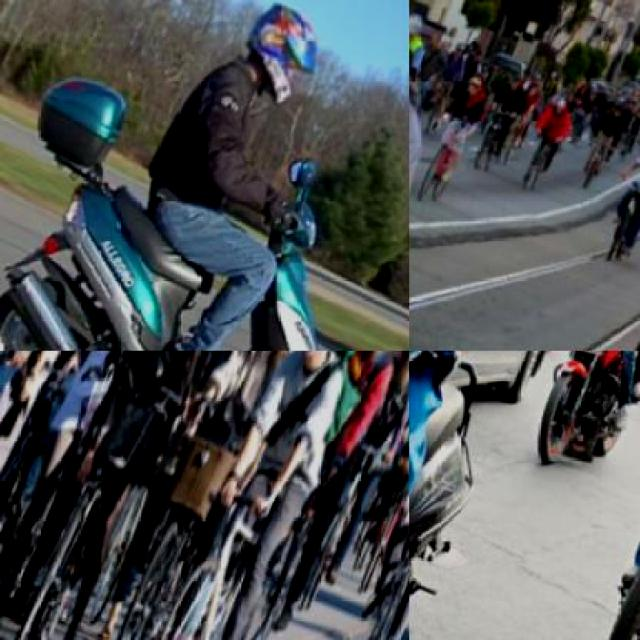With Helmet: (211, 0, 340, 118), (409, 11, 428, 51)
Without Helmet: (378, 351, 408, 403), (283, 351, 357, 372), (348, 351, 408, 374)
